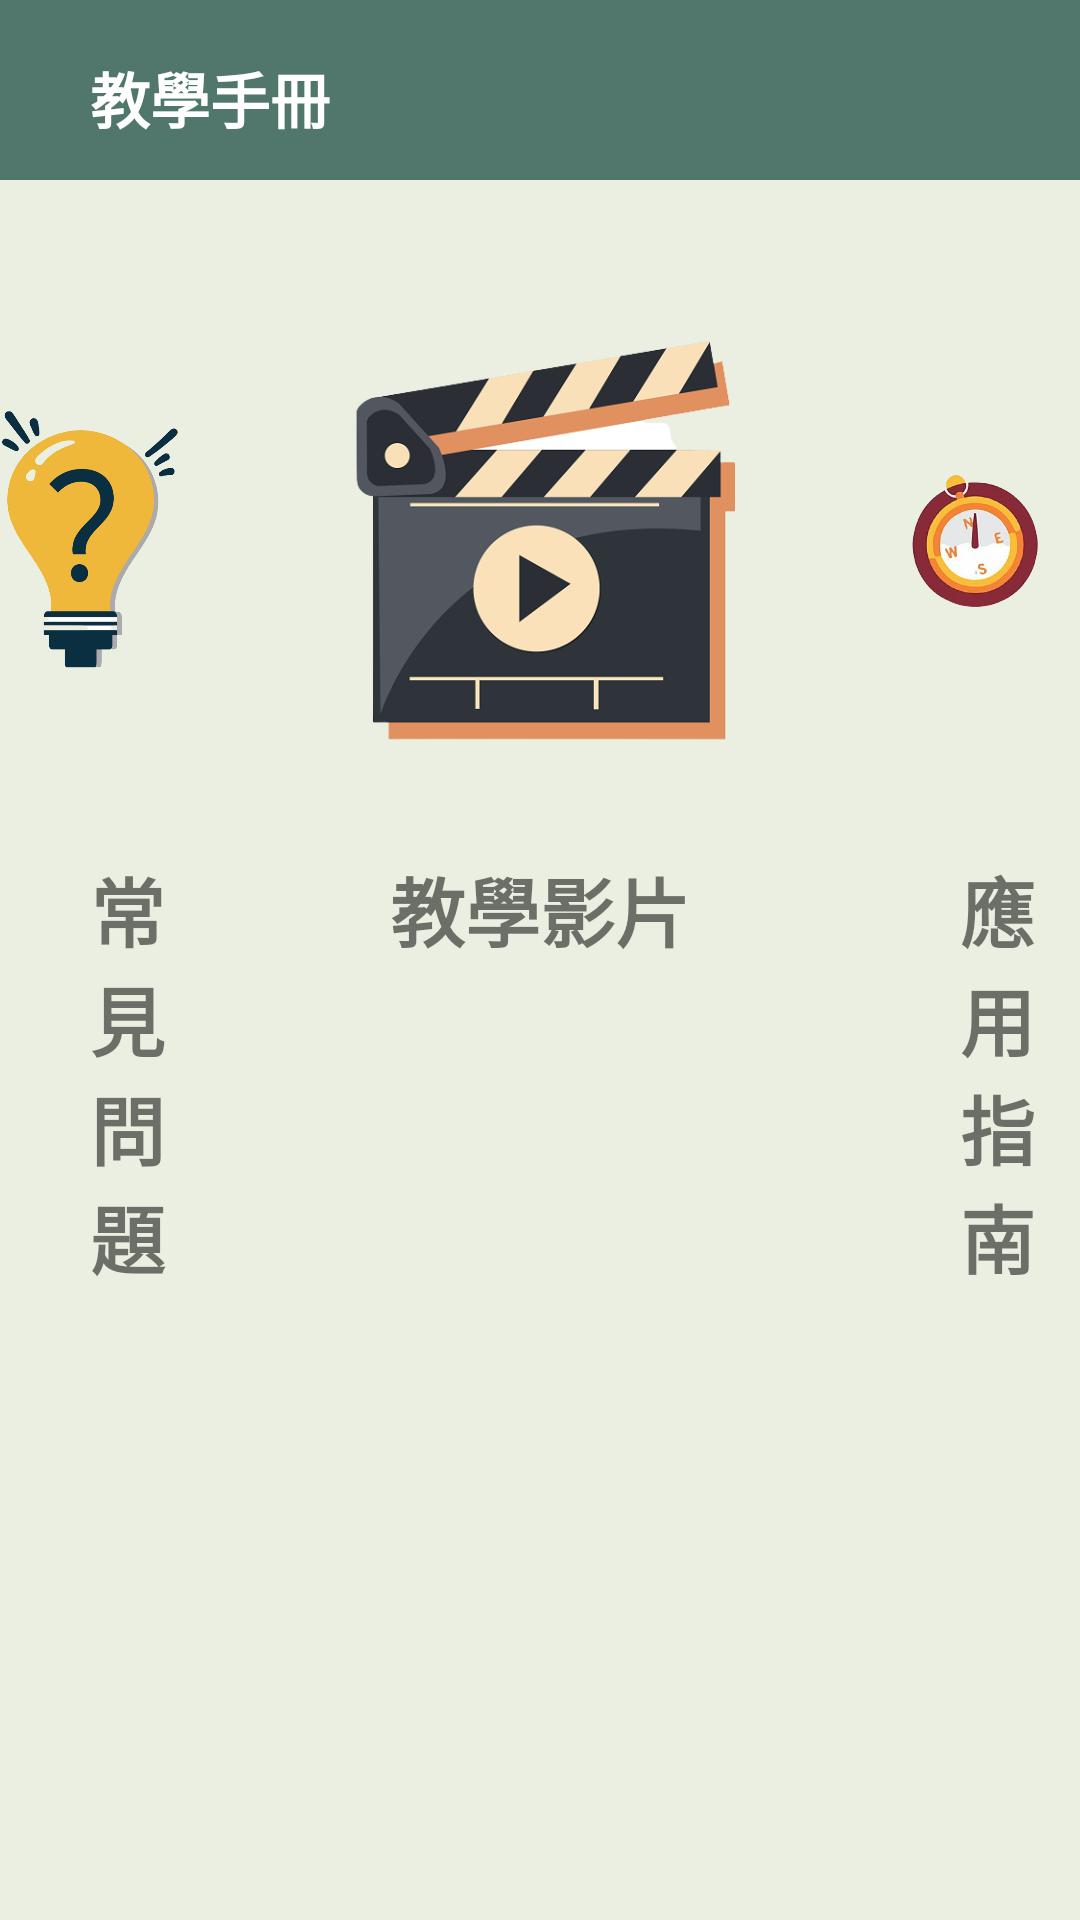

Locate icon controls on the screen. Image size 1080x1920, boxes as (x1, y1, x2, y2).
compass: (912, 475, 1038, 607)
question: (2, 411, 178, 668)
